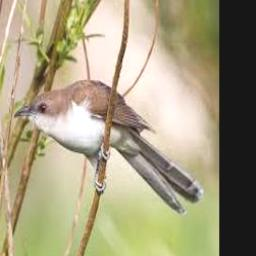Cuckoo: (14, 79, 205, 215)
